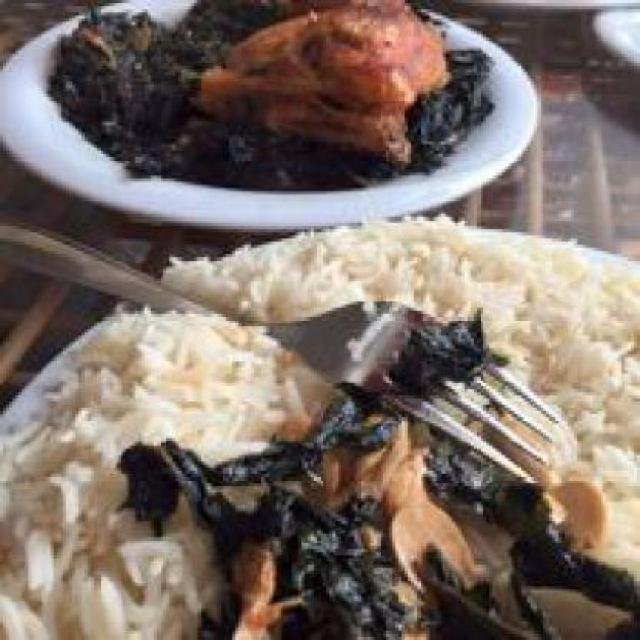molokhia: (138, 383, 584, 637)
